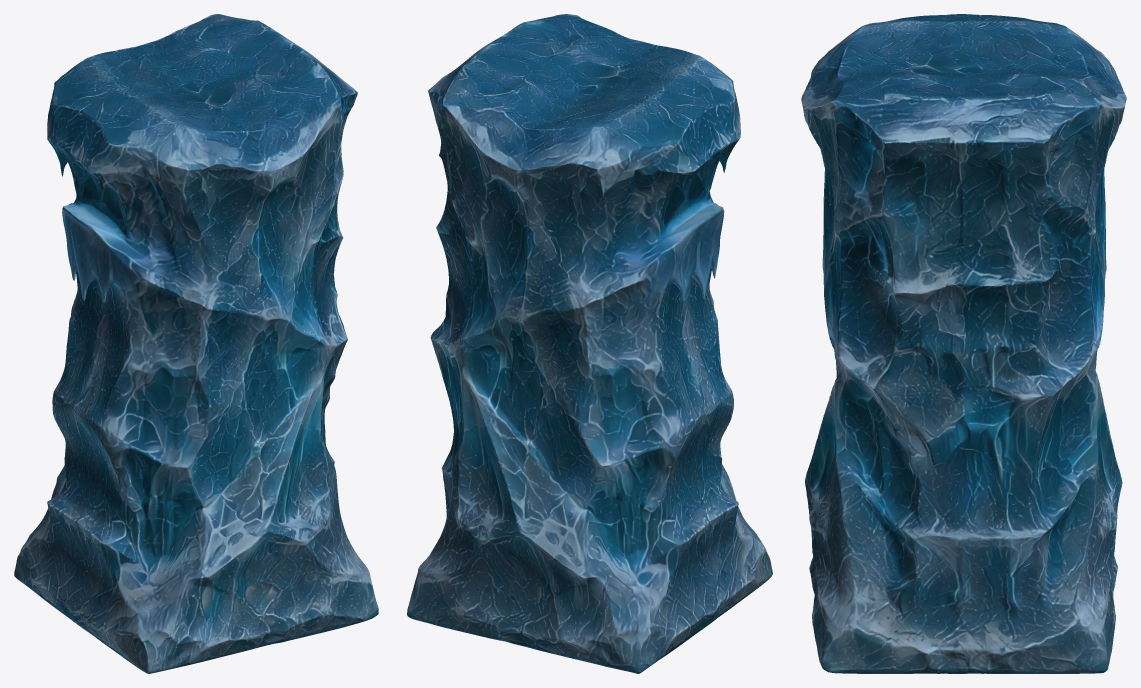
The model's file is Ice_Pillar.fbx.
3 views of the same model, side by side, from view 1: azimuth 30°, elevation 25°; view 2: azimuth 150°, elevation 25°; view 3: azimuth 270°, elevation 25° (orthographic). The views are drawn at different scales.
Parts seen in each view (by area): view 1: model; view 2: model; view 3: model.
Part boxes in pixels (x1,y1,x2,y2): model: [14, 14, 378, 673]; model: [407, 14, 772, 673]; model: [801, 14, 1126, 673].
Bounding box in the file's own units: 85.55 × 172 × 89.22.
Materials: 1 (1 with a texture image).
